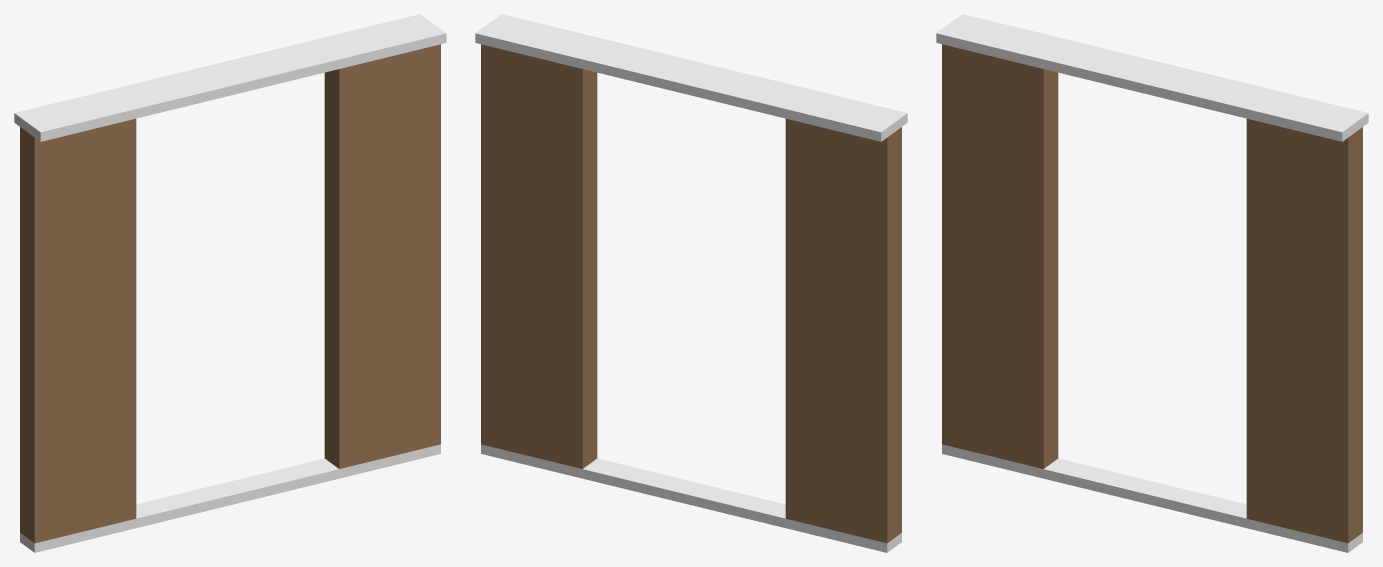
File: SM_4x4m_HighWall.fbx
3 renders of one model, left to right at view 1: azimuth 30°, elevation 25°; view 2: azimuth 150°, elevation 25°; view 3: azimuth 330°, elevation 25°, orthographic.
Parts seen in each view (by area): view 1: SM_4x4m_HighWindow.001; view 2: SM_4x4m_HighWindow.001; view 3: SM_4x4m_HighWindow.001.
Part boxes in pixels (bbox=[...]): SM_4x4m_HighWindow.001: bbox=[14, 14, 446, 552]; SM_4x4m_HighWindow.001: bbox=[475, 14, 907, 552]; SM_4x4m_HighWindow.001: bbox=[936, 14, 1368, 552].
Size of the model in its own units: 400 by 45 by 400.
